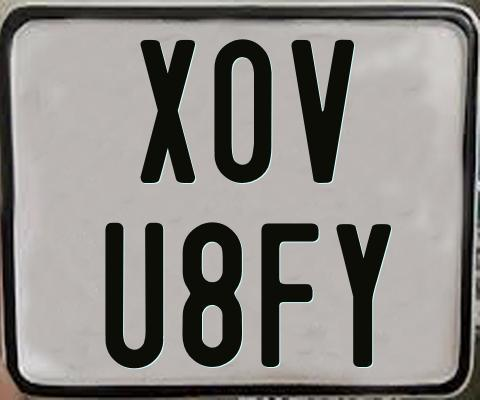0: (211, 39, 272, 187)
8: (182, 220, 248, 368)
F: (260, 221, 320, 369)
U: (103, 221, 162, 372)
V: (291, 38, 356, 186)
X: (138, 37, 198, 182)
Y: (335, 223, 392, 369)
